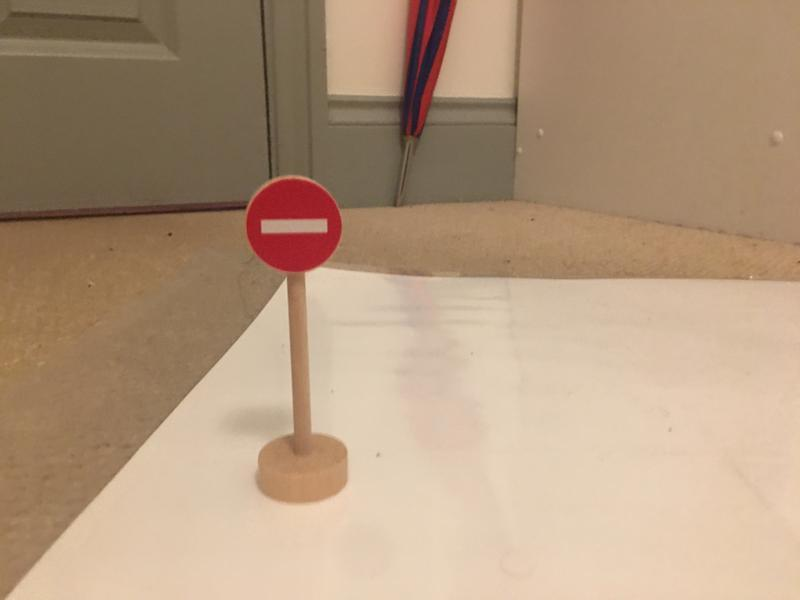Traffic_Sign_No_Entry: (247, 178, 343, 274)
